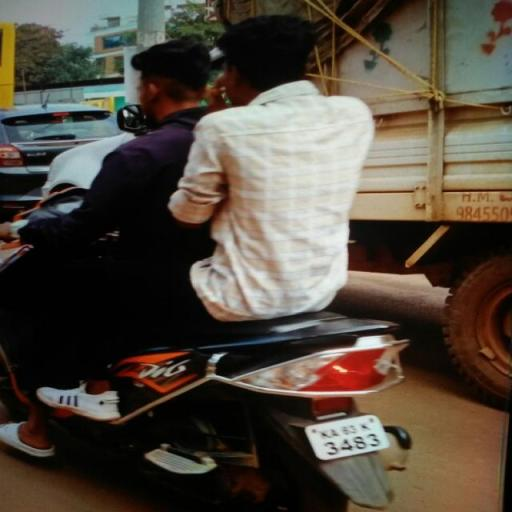bike: (7, 13, 418, 512)
withouthelmet: (228, 18, 310, 89), (134, 41, 208, 114)
